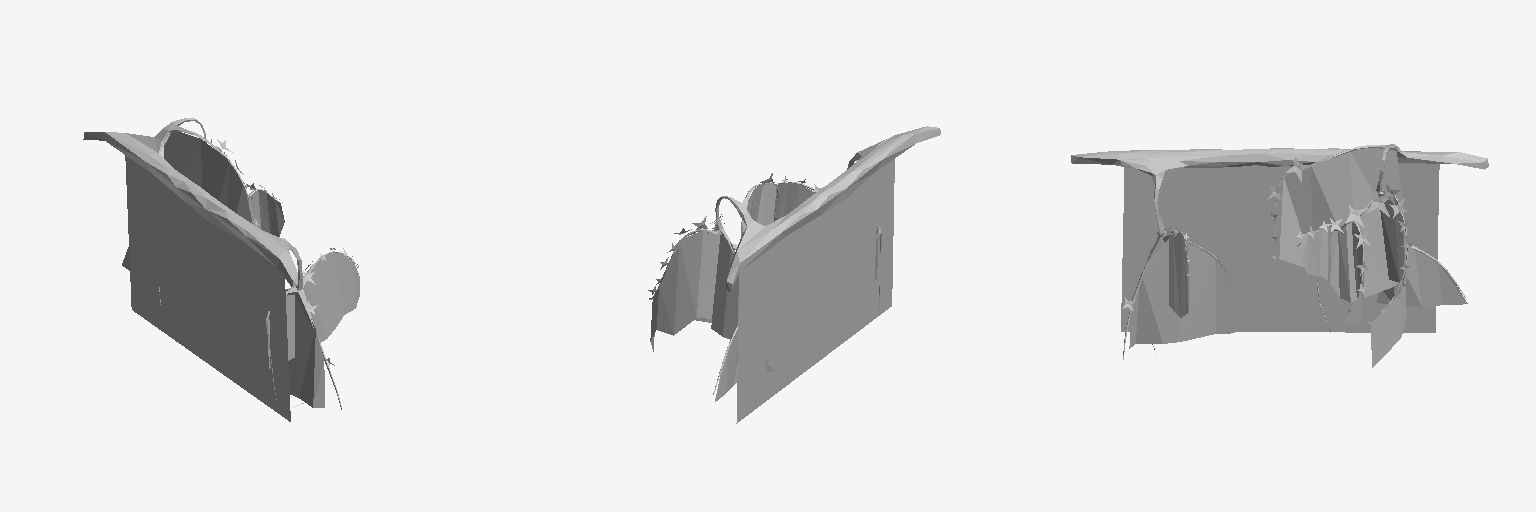
Rendered from wall_vine_A.obj.
3 renders of one model, left to right at view 1: azimuth 30°, elevation 25°; view 2: azimuth 150°, elevation 25°; view 3: azimuth 270°, elevation 25°, orthographic.
Parts seen in each view (by area): view 1: Cube.001_Cube.002; view 2: Cube.001_Cube.002; view 3: Cube.001_Cube.002.
Boxes of the visible parts, x1=… form: Cube.001_Cube.002: x1=83, y1=118, x2=359, y2=421; Cube.001_Cube.002: x1=648, y1=126, x2=940, y2=423; Cube.001_Cube.002: x1=1071, y1=144, x2=1488, y2=367.
Size of the model in its own units: 0.8283 by 1.18 by 2.19.